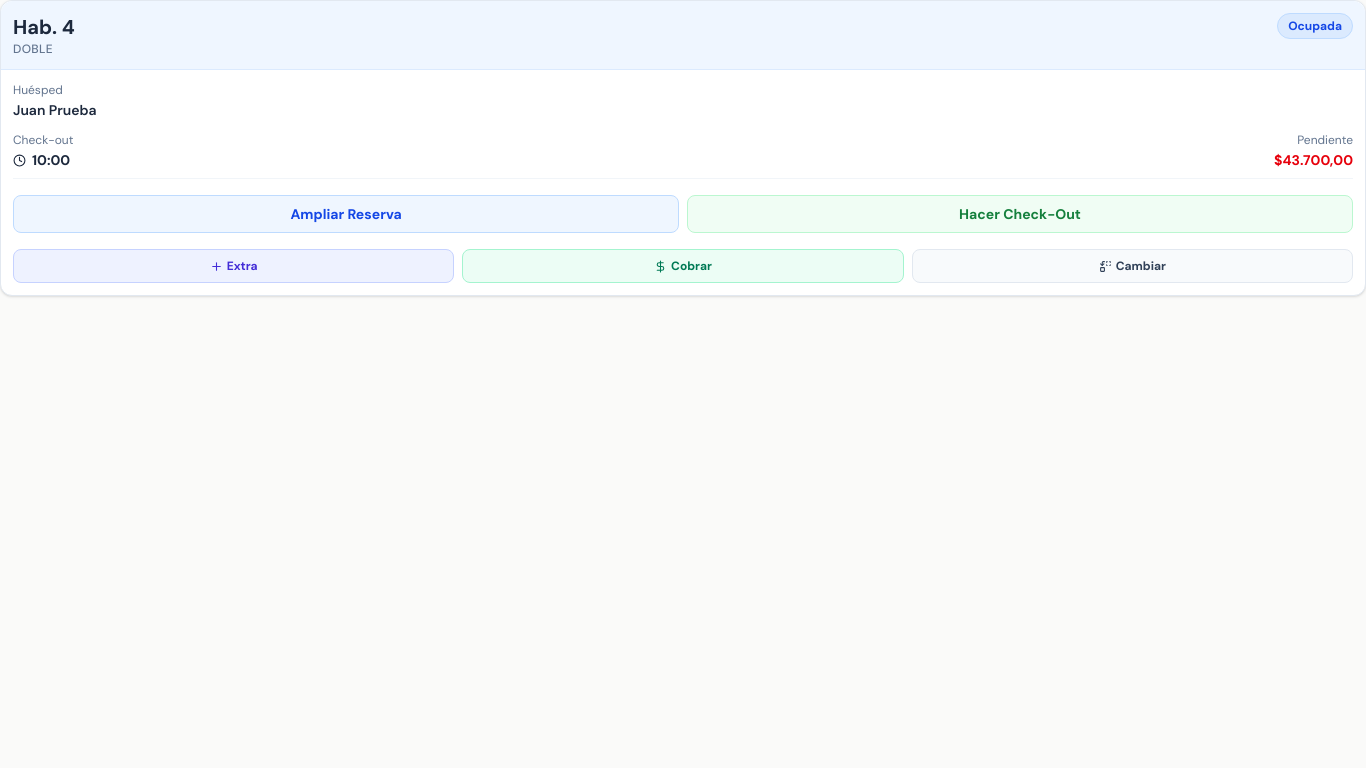
Test case: RoomCard: Cobrar a cuenta antes del check-out › registra el pago con la reserva, saca el recibo y no hace el check-out
This screenshot has width=1366, height=768.
Click the button "Cobrar": (683,266) [462,249,904,283]
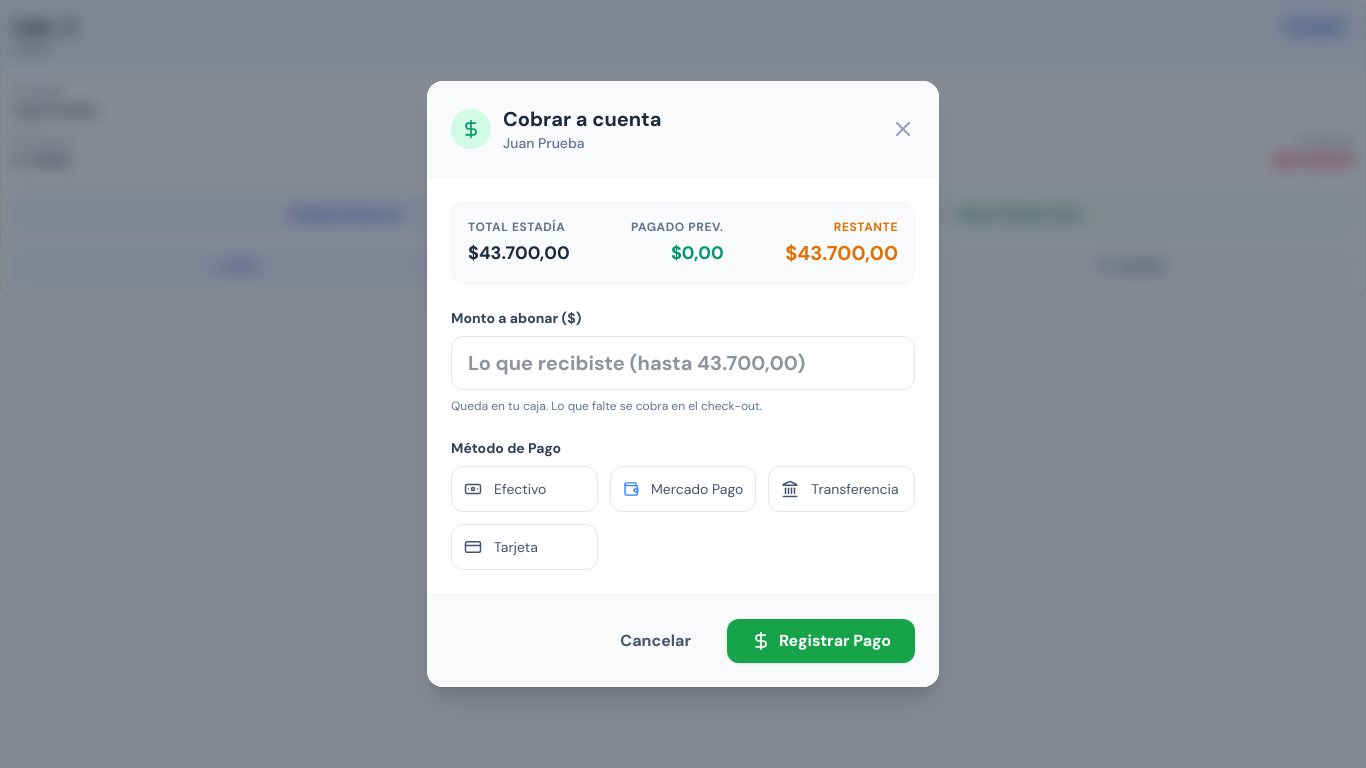
In the field labelled "Monto a abonar ($)": (683,363) [451,336,915,390], type "20.000"
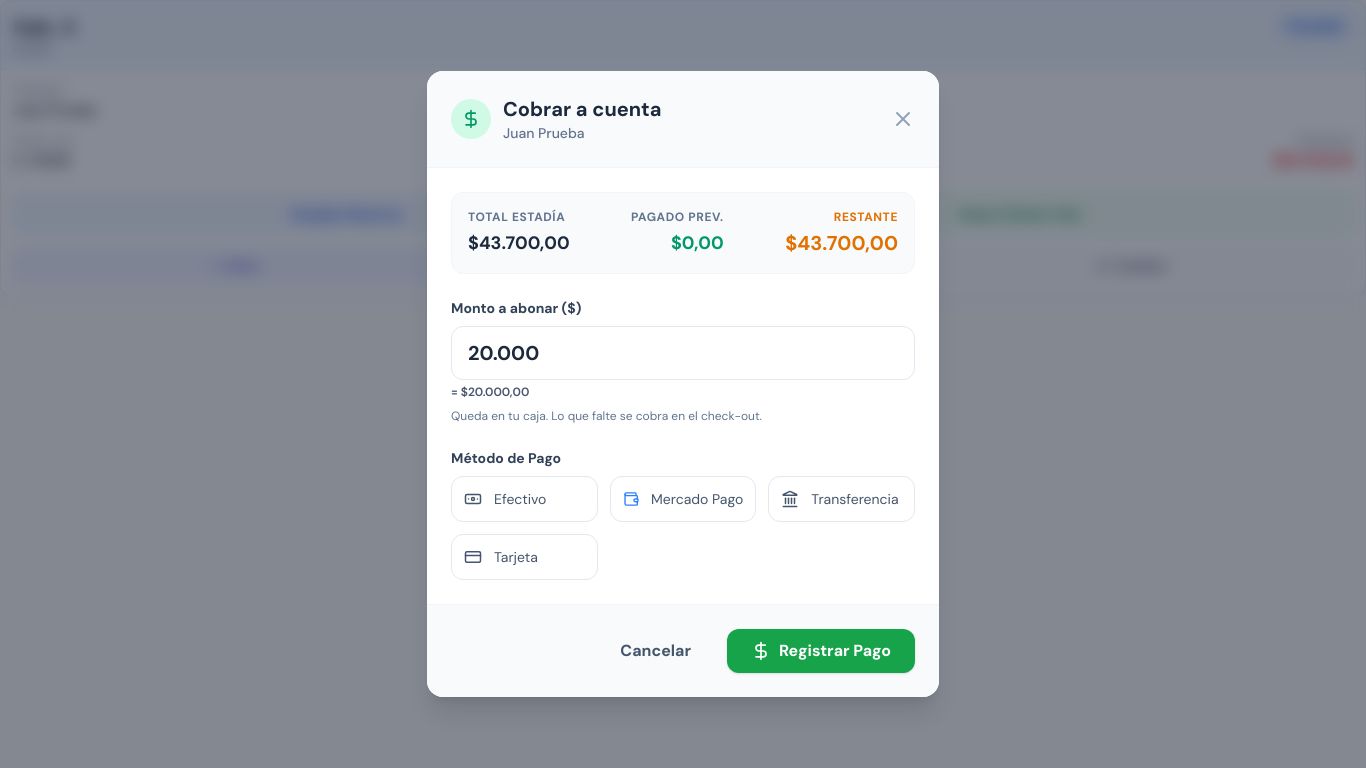
Click the radio button labelled "Efectivo": (524,499) [451,476,598,522]
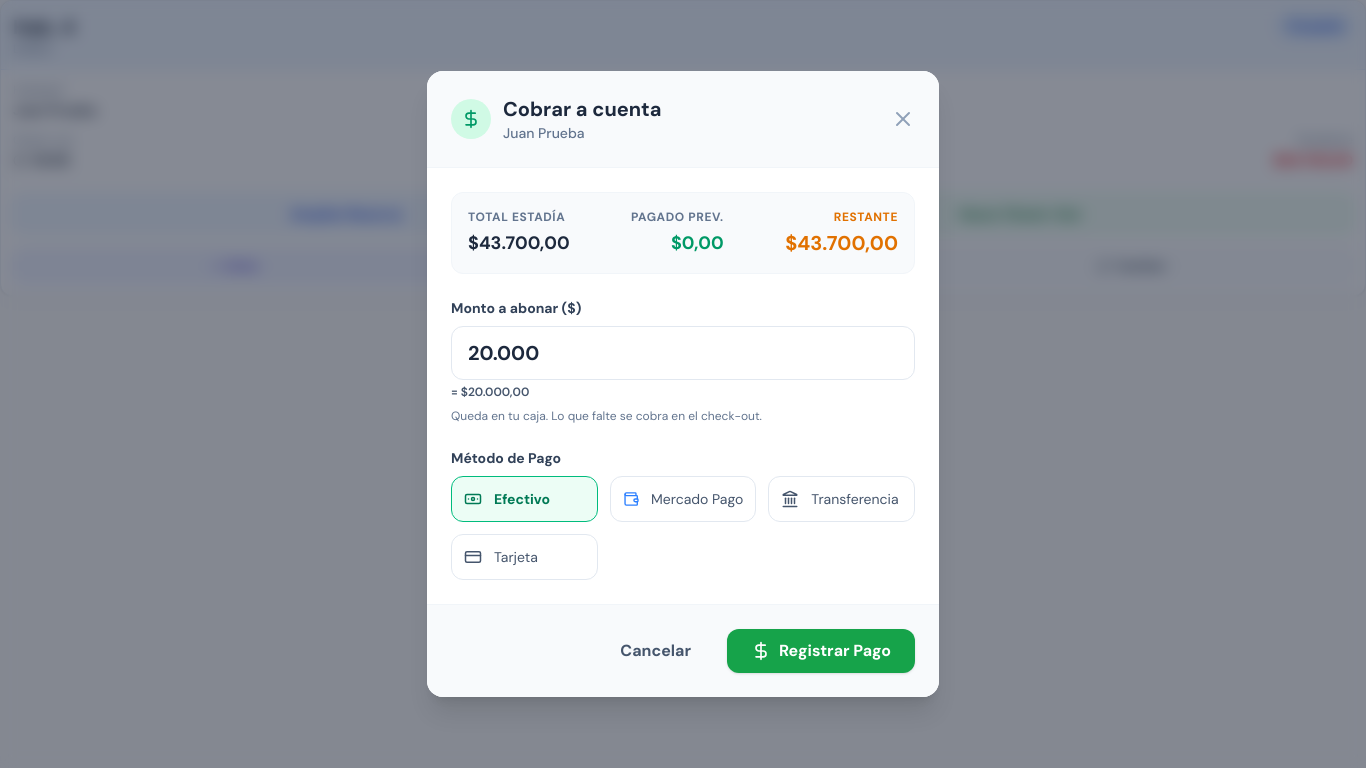
Click the button "Registrar Pago": (821,651) [727,629,915,673]
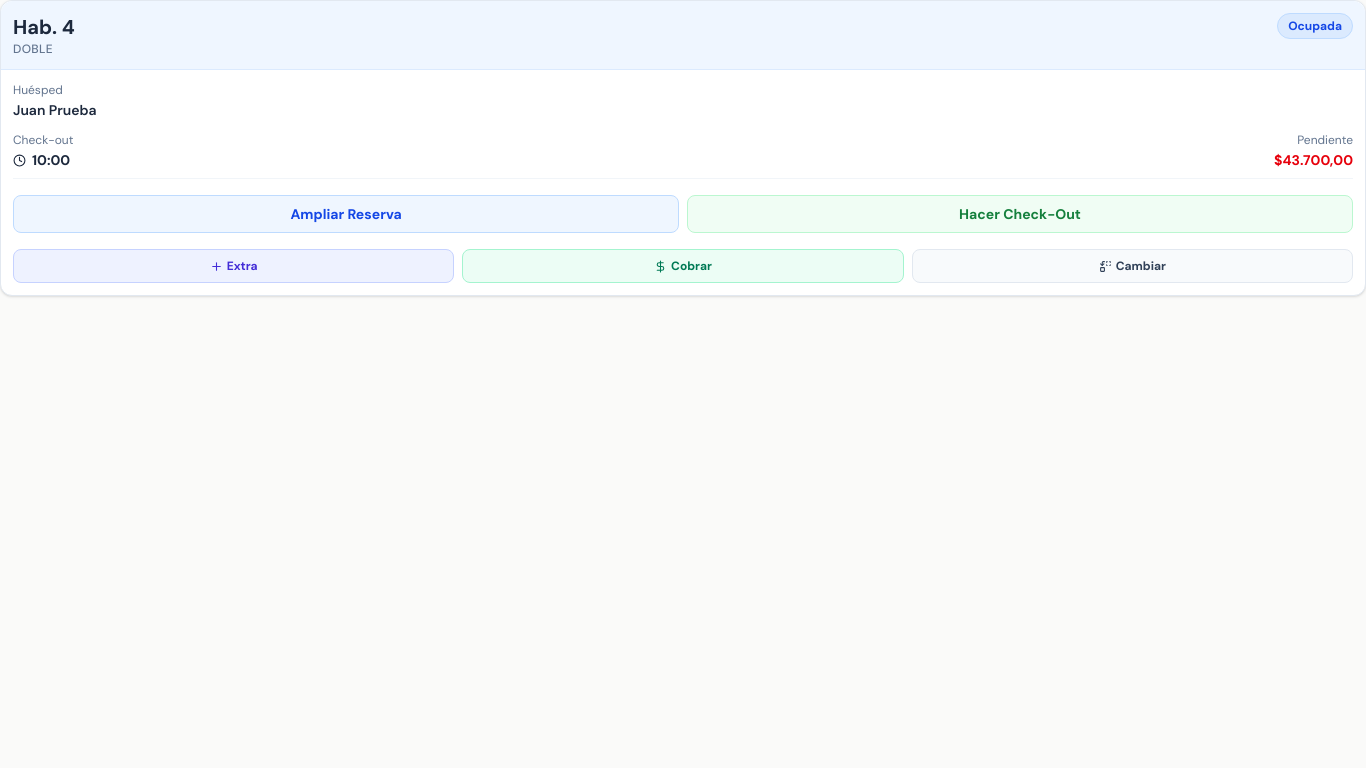
Check: the heading "Cobrar a cuenta" is gone
